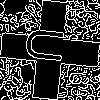U: (25, 25, 74, 66)
